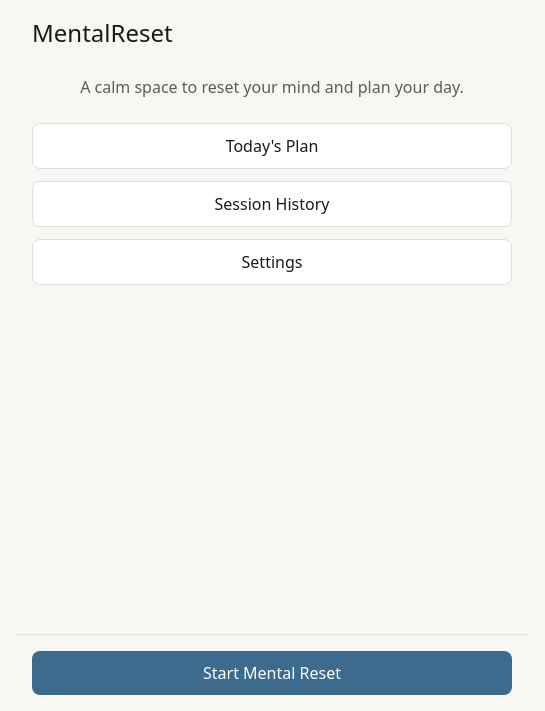
app navigation › navigates to Session History from idle shell
The width and height of the screenshot is (545, 711).
Click the button "Session History": click(272, 204) top-left (32, 181), bottom-right (512, 227)
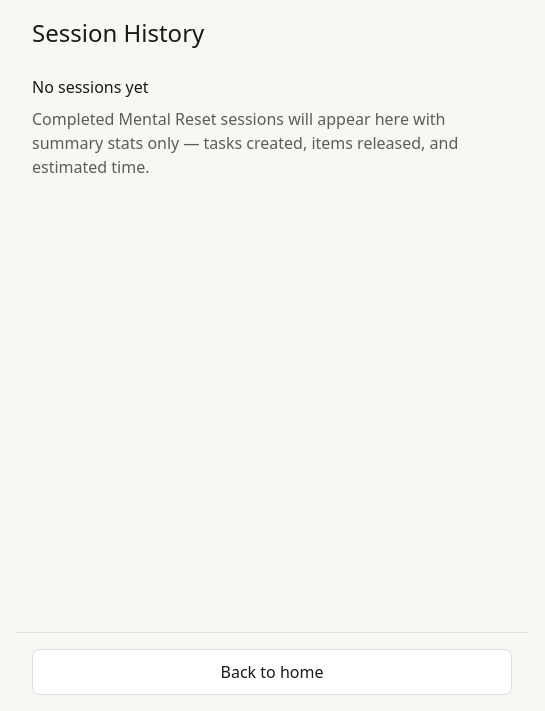
Now the heading "Session History" is shown, box top-left (32, 16), bottom-right (204, 49)
